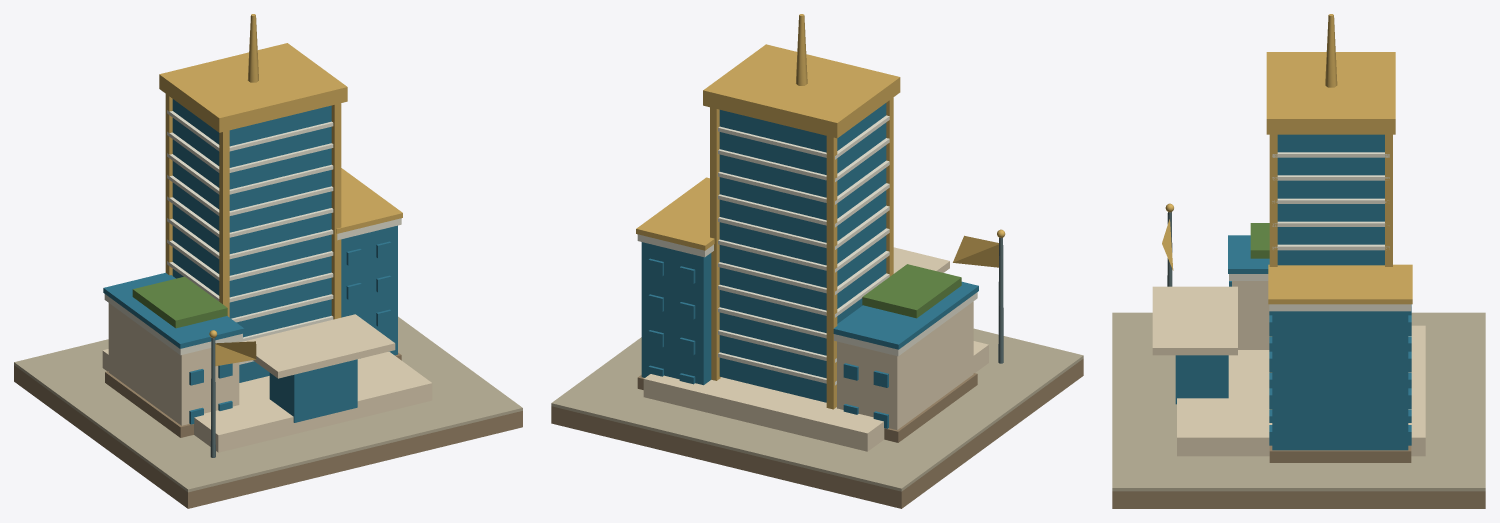
The model's file is club-headquarters-lv4.glb.
3 renders of one model, left to right at view 1: azimuth 30°, elevation 25°; view 2: azimuth 150°, elevation 25°; view 3: azimuth 270°, elevation 25°, orthographic. The views are drawn at different scales.
Parts seen in each view (by area): view 1: office_tower_glass, foundation_paving, tower_crown_gold, floor_bands_white, foundation_stoneDark, headquarters_plinth_cream, office_wing_cream, entrance_canopy_cream, tower_mullions_gold, secondary_tower_glass, entrance_lobby_glass, office_wing_roof_glass (+9 smaller); view 2: office_tower_glass, foundation_paving, tower_crown_gold, floor_bands_white, foundation_stoneDark, office_wing_cream, headquarters_plinth_cream, secondary_tower_glass, tower_mullions_gold, office_wing_roof_glass, roof_garden_grass, secondary_tower_roof_gold (+8 smaller); view 3: foundation_paving, secondary_tower_glass, office_tower_glass, tower_crown_gold, headquarters_plinth_cream, foundation_stoneDark, entrance_canopy_cream, secondary_tower_roof_gold, floor_bands_white, entrance_lobby_glass, tower_mullions_gold, office_wing_cream (+6 smaller).
Boxes of the visible parts, box(x1,y1,x2,y2) form: office_tower_glass: box(172, 99, 331, 382); foundation_paving: box(14, 316, 522, 492); tower_crown_gold: box(159, 43, 347, 132); floor_bands_white: box(167, 110, 333, 364); foundation_stoneDark: box(14, 365, 522, 508); headquarters_plinth_cream: box(102, 349, 432, 452); office_wing_cream: box(108, 303, 239, 425); entrance_canopy_cream: box(242, 314, 395, 378); tower_mullions_gold: box(165, 94, 341, 319); secondary_tower_glass: box(341, 225, 397, 355); entrance_lobby_glass: box(269, 359, 357, 422); office_wing_roof_glass: box(103, 272, 244, 348); office_tower_glass: box(719, 103, 886, 402); foundation_paving: box(551, 328, 1083, 491); tower_crown_gold: box(703, 44, 900, 138); floor_bands_white: box(718, 115, 889, 385); foundation_stoneDark: box(551, 358, 1083, 508); office_wing_cream: box(837, 301, 973, 429); headquarters_plinth_cream: box(643, 341, 988, 451); secondary_tower_glass: box(641, 242, 711, 385); tower_mullions_gold: box(710, 97, 893, 409); office_wing_roof_glass: box(833, 281, 978, 349); roof_garden_grass: box(862, 264, 961, 318); secondary_tower_roof_gold: box(636, 177, 714, 250); foundation_paving: box(1112, 312, 1485, 491); secondary_tower_glass: box(1272, 311, 1408, 450); office_tower_glass: box(1277, 134, 1384, 265); tower_crown_gold: box(1266, 52, 1395, 134); headquarters_plinth_cream: box(1177, 325, 1425, 456); foundation_stoneDark: box(1112, 491, 1485, 508); entrance_canopy_cream: box(1152, 286, 1237, 355); secondary_tower_roof_gold: box(1268, 264, 1412, 304); floor_bands_white: box(1272, 152, 1389, 250); entrance_lobby_glass: box(1175, 355, 1228, 404); tower_mullions_gold: box(1269, 134, 1392, 409); office_wing_cream: box(1232, 281, 1269, 349).
Size of the model in its own units: 1 by 1.08 by 0.9.
